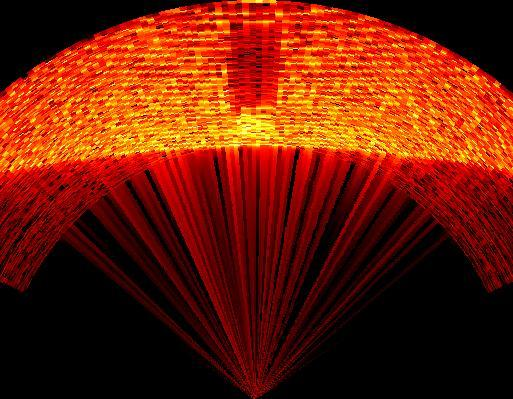box_crate: (218, 13, 289, 125)
